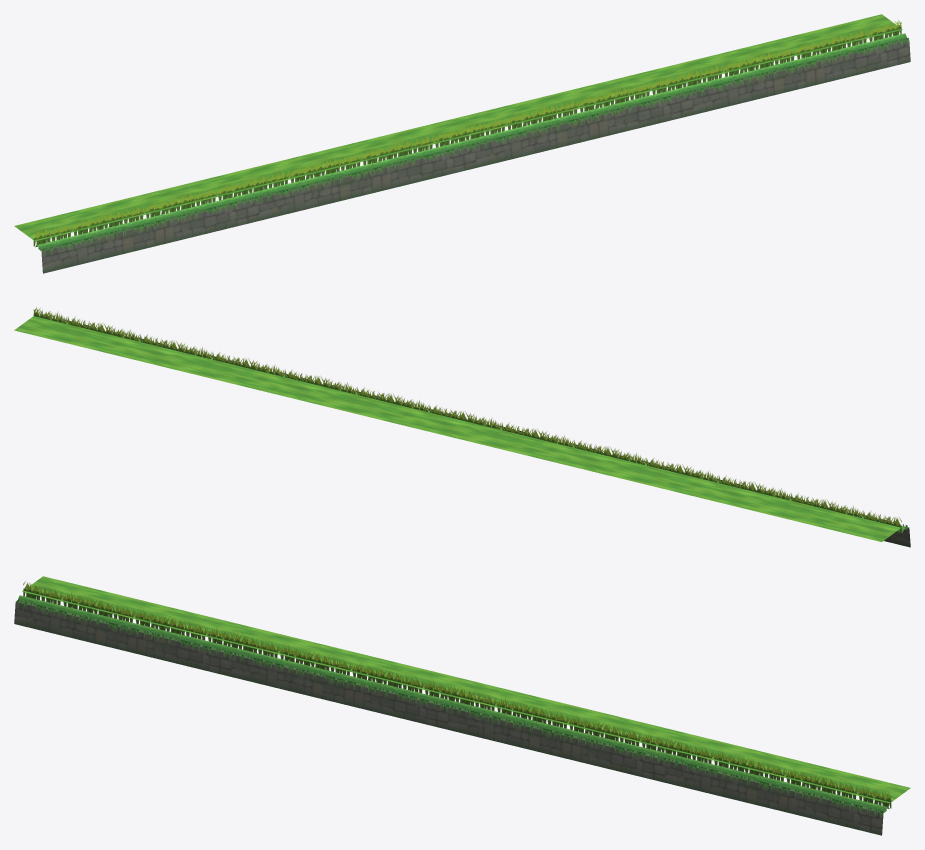
Rendered from terrace_straight_young_far48.glb.
3 renders of one model, top to bottom at view 1: azimuth 30°, elevation 25°; view 2: azimuth 150°, elevation 25°; view 3: azimuth 330°, elevation 25°, orthographic.
Visible parts, largest first — view 1: terrace_straight_young_far48_cards, terrace_straight_young_far48_wall, terrace_straight_young_far48_dike; view 2: terrace_straight_young_far48_cards; view 3: terrace_straight_young_far48_cards, terrace_straight_young_far48_wall, terrace_straight_young_far48_dike.
Part boxes in pixels (left/top/right/bottom): terrace_straight_young_far48_cards: left=14, top=14, right=909, bottom=254; terrace_straight_young_far48_wall: left=38, top=38, right=910, bottom=273; terrace_straight_young_far48_dike: left=35, top=33, right=906, bottom=249; terrace_straight_young_far48_cards: left=14, top=307, right=907, bottom=541; terrace_straight_young_far48_cards: left=17, top=576, right=910, bottom=817; terrace_straight_young_far48_wall: left=14, top=600, right=886, bottom=835; terrace_straight_young_far48_dike: left=18, top=595, right=889, bottom=811.
Size of the model in its own units: 48 by 2.13 by 2.79.
3 materials, 3 textured.
